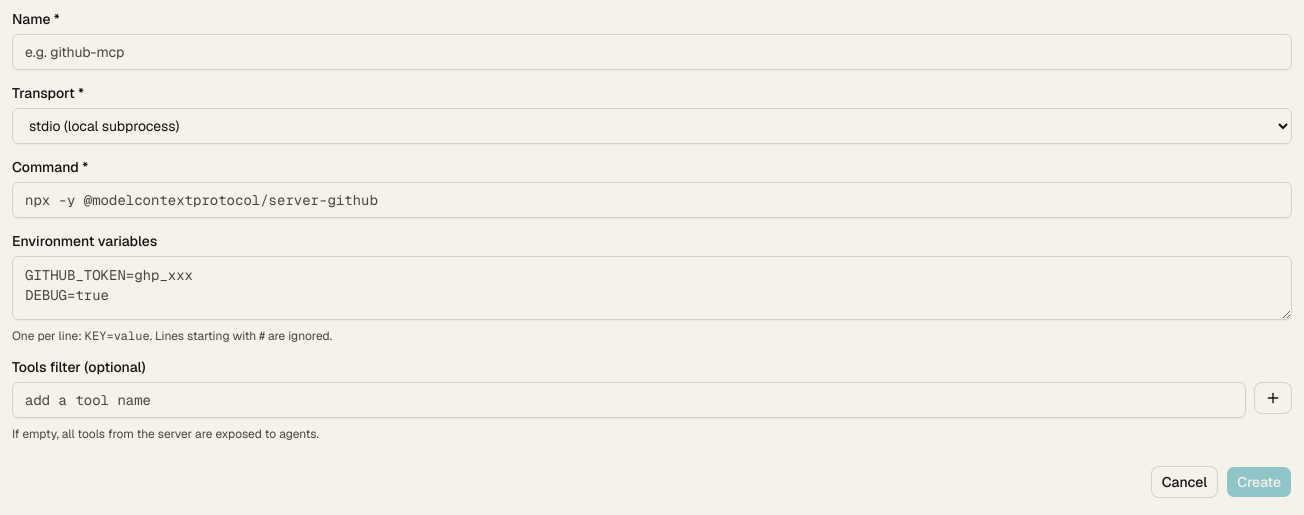
McpServerForm › shows url input when http transport is selected
The width and height of the screenshot is (1304, 515).
Select "http (remote endpoint)" in the dropdown labelled "Transport *". click: (652, 126)
box: x1=12 y1=108 x2=1292 y2=144
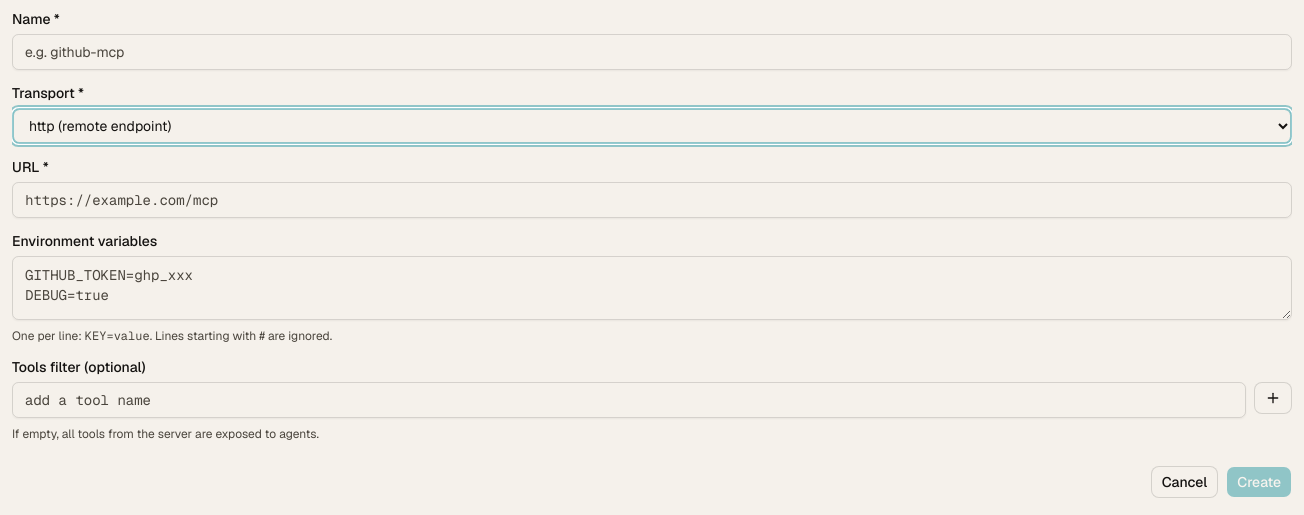
expect the field labelled "URL *" is shown: met, box x1=12 y1=182 x2=1292 y2=218
expect the label labelled "Command" is gone: met
